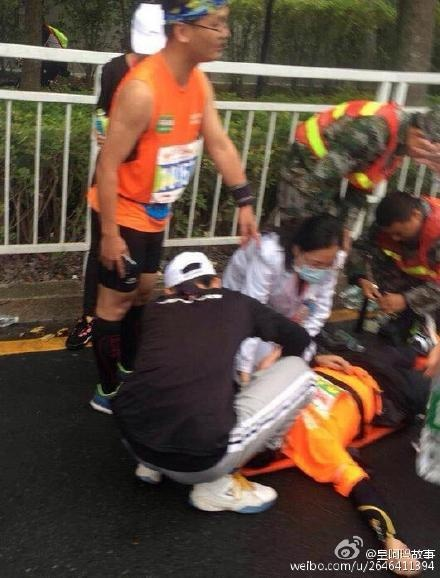falling: (239, 303, 431, 578)
